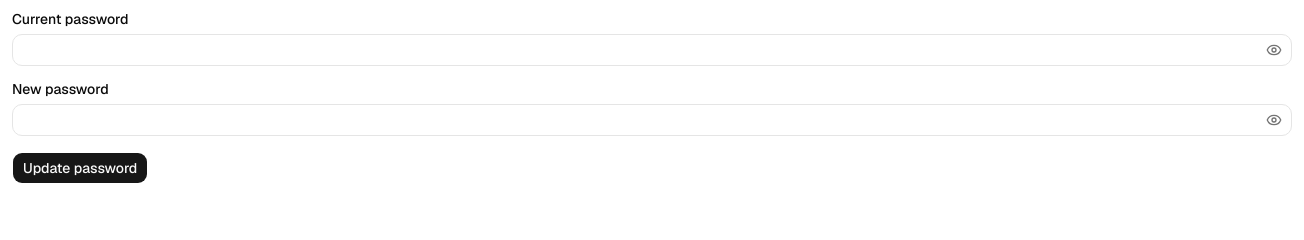
Scenario: ChangePasswordForm › shows an error message when the mutation fails
Type "wrongpass" into the password field labelled "Current password" at [652, 50], box [12, 34, 1292, 66]
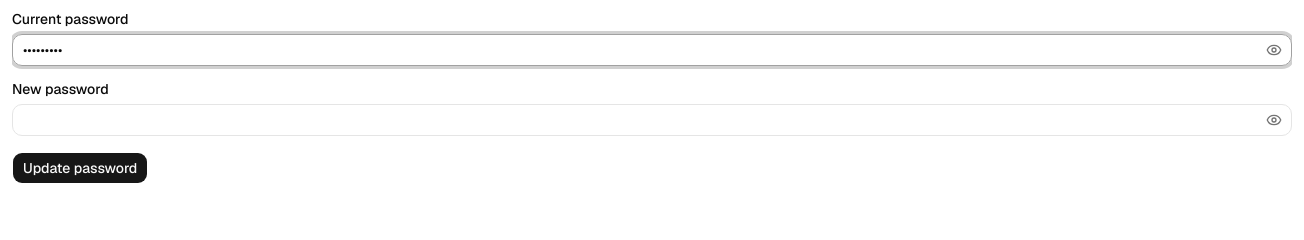
Type "newpass456" into the password field labelled "New password" at [652, 120], box [12, 104, 1292, 136]
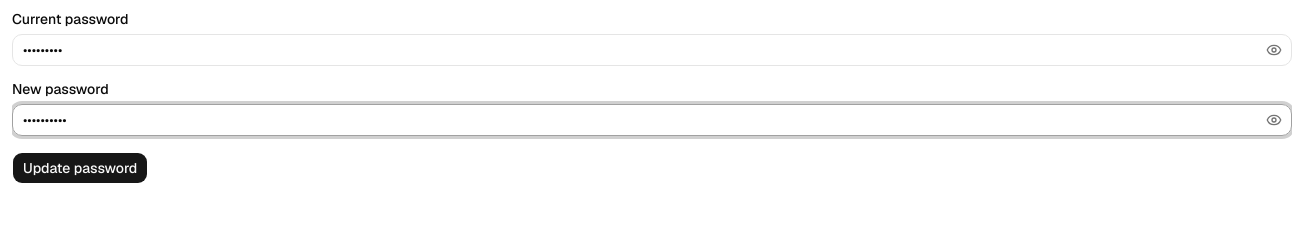
Click the button "Update password" at [80, 168], box [12, 152, 148, 184]
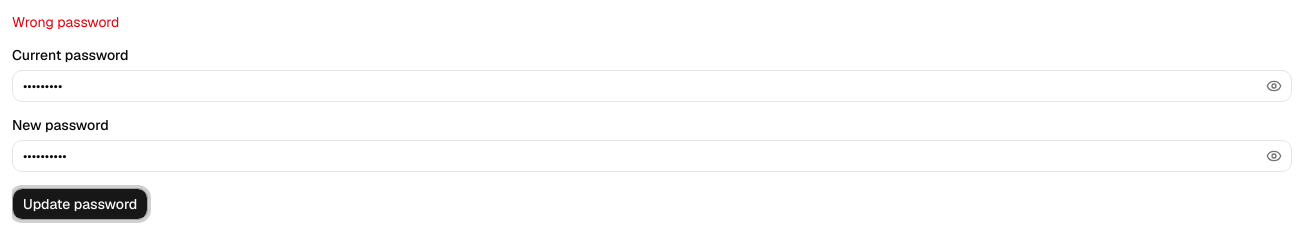
Expected: the text "Wrong password" is shown, [12, 13, 119, 31]
